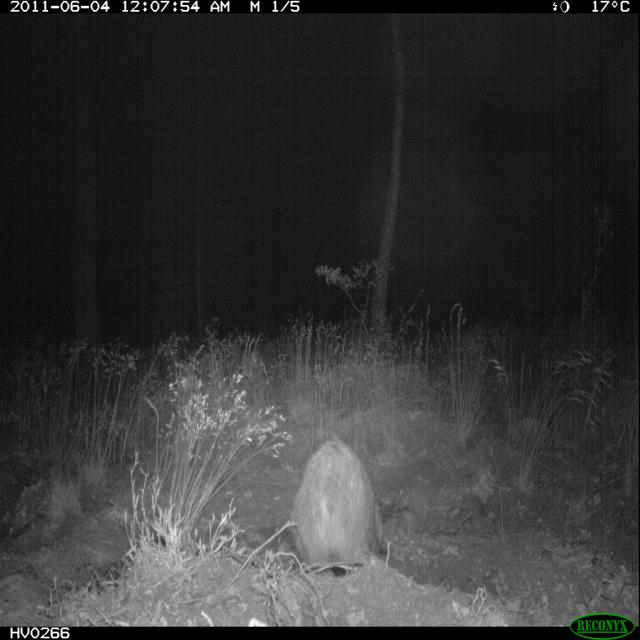boar: (272, 414, 406, 589)
